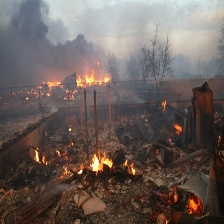fire: (29, 146, 138, 180), (23, 70, 112, 100), (160, 102, 183, 139), (171, 191, 203, 215)
smoke: (1, 2, 119, 66)
